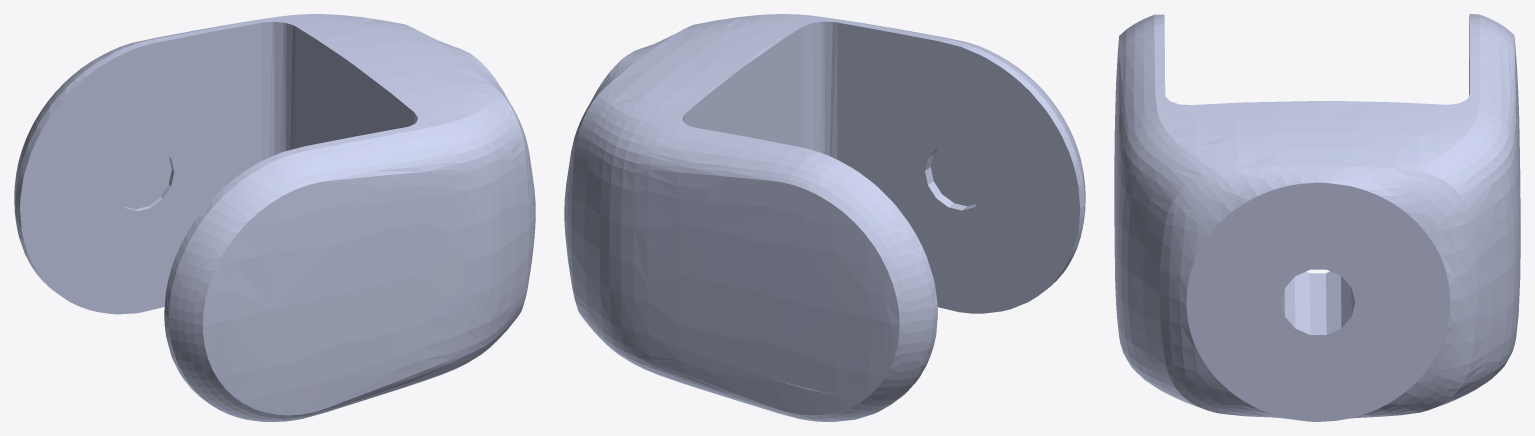
File: right_wrist_yaw_link.dae
3 renders of one model, left to right at view 1: azimuth 30°, elevation 25°; view 2: azimuth 150°, elevation 25°; view 3: azimuth 270°, elevation 25°, orthographic. The views are drawn at different scales.
Parts seen in each view (by area): view 1: node; view 2: node; view 3: node.
Boxes of the visible parts, x1,y1,x2,y2 form: node: (14,14,535,421); node: (564,14,1085,421); node: (1114,14,1520,421).
Size of the model in its own units: 0.0892 by 0.0592 by 0.0769.
